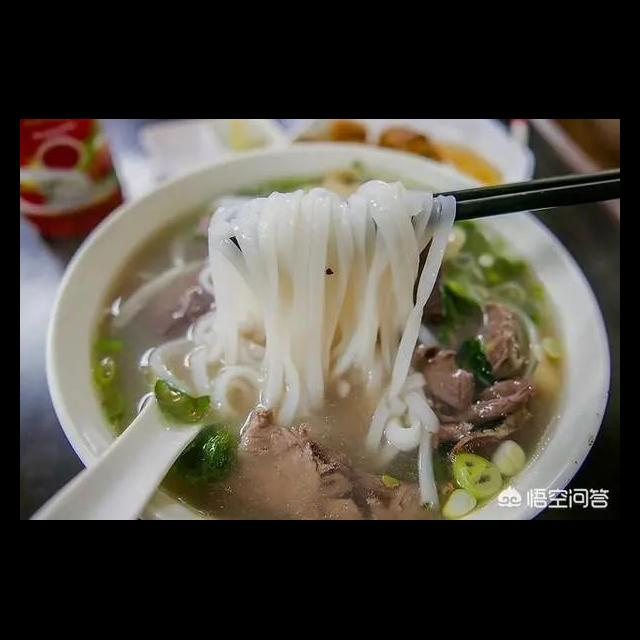banh pho: (199, 174, 460, 458), (139, 302, 280, 430)
pho bo: (60, 160, 603, 520)
thit bo: (212, 402, 442, 520), (428, 376, 541, 464), (408, 338, 482, 416), (468, 298, 528, 382)
